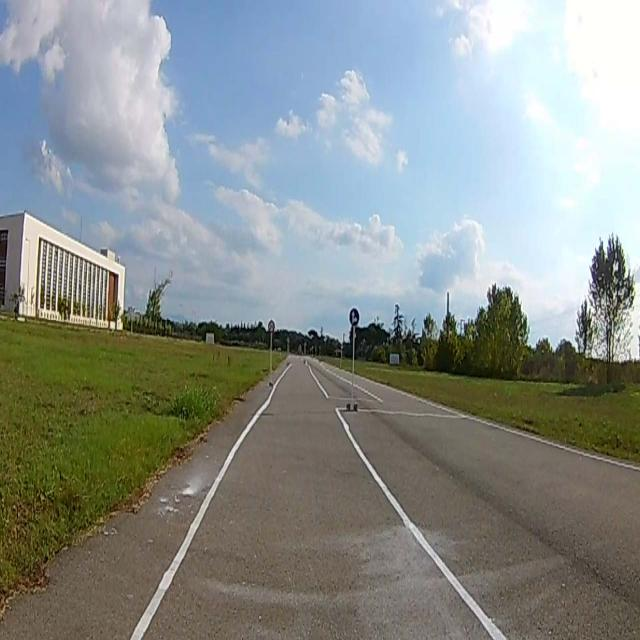ilerisag: (349, 308, 359, 326)
